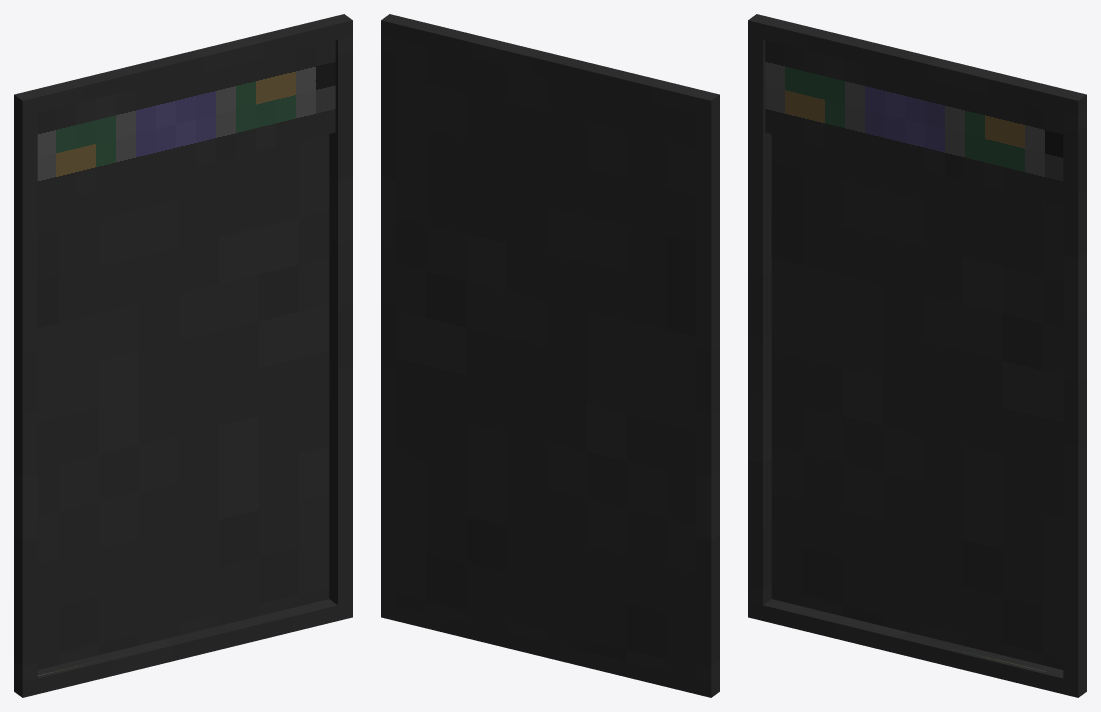
File: painting.obj
3 views of the same model, side by side, from view 1: azimuth 30°, elevation 25°; view 2: azimuth 150°, elevation 25°; view 3: azimuth 330°, elevation 25° (orthographic).
Visible parts, largest first — view 1: cube; view 2: cube; view 3: cube.
Part boxes in pixels (left/top/right/bottom): cube: left=14, top=14, right=352, bottom=697; cube: left=381, top=14, right=719, bottom=697; cube: left=748, top=14, right=1086, bottom=697.
Bounding box in the file's own units: 0.5499 × 0.9498 × 0.025.
